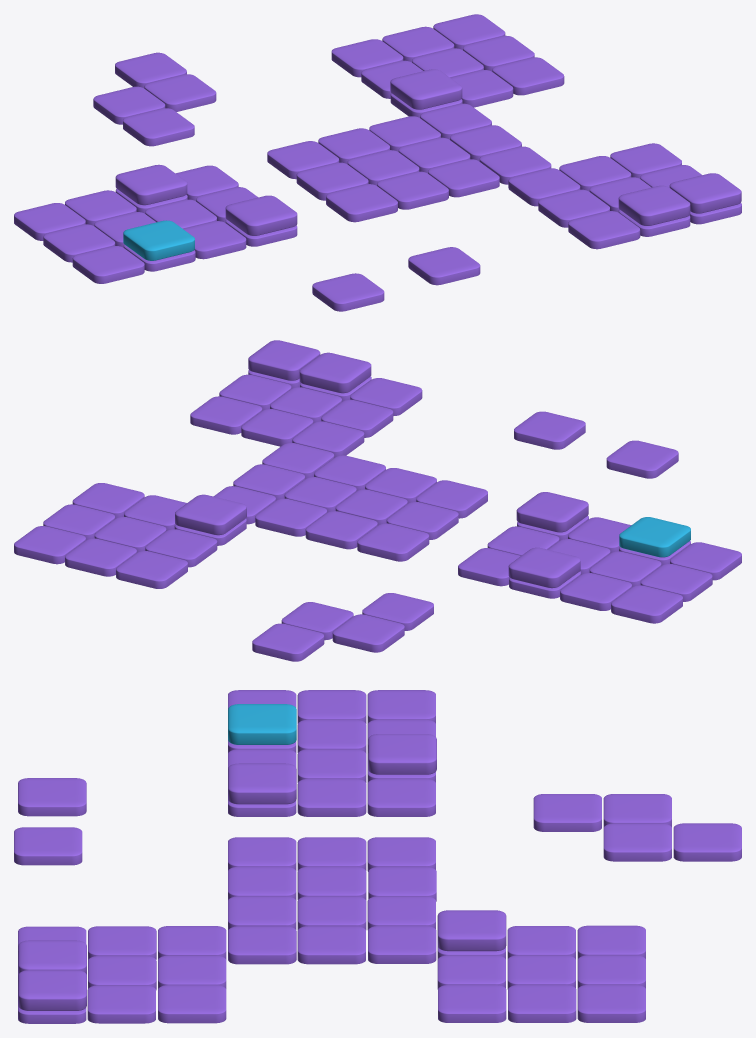
File: Level1.glb
The picture shows the model from 3 angles, top to bottom: view 1: azimuth 30°, elevation 25°; view 2: azimuth 150°, elevation 25°; view 3: azimuth 270°, elevation 25°; orthographic projection. The views are drawn at different scales.
Parts seen in each view (by area): view 1: block.001, block.004, block.002, block.003, block, platform.037, platform.013, platform.022, platform.015, platform.007, platform.040, block.005 (+41 smaller); view 2: block.004, block.001, block.002, block, block.003, platform.004, platform.037, platform.027, platform.009, platform.013, platform.005, platform.014 (+37 smaller); view 3: block.003, block.002, block, block.001, block.005, platform.026, platform.008, platform.013, platform.009, platform.038, platform.030, platform.048 (+38 smaller).
Part boxes in pixels (x1,y1,x2,y2): block.001: (115,164,187,205); block.004: (618,185,690,225); block.002: (225,195,297,235); block.003: (390,69,462,109); block: (123,220,194,260); platform.037: (312,273,384,311); platform.013: (408,247,480,285); platform.022: (72,246,144,283); platform.015: (568,211,640,249); platform.007: (123,108,194,146); platform.040: (326,184,397,222); block.005: (669,173,741,213); block.004: (299,352,371,393); block.001: (508,547,580,588); block.002: (516,492,588,532); block: (619,517,690,557); block.003: (175,494,246,535); platform.004: (332,614,404,652); platform.037: (606,440,678,478); platform.027: (357,523,429,561); platform.009: (252,623,324,661); platform.013: (514,411,585,449); platform.005: (611,585,682,623); platform.014: (116,551,187,588); block.003: (437,910,506,951); block.002: (228,763,296,804); block: (228,704,296,744); block.001: (368,734,436,774); block.005: (18,970,86,1010); platform.026: (297,778,366,816); platform.008: (603,823,671,861); platform.013: (14,827,82,865); platform.009: (673,823,741,861); platform.038: (228,926,296,964); platform.030: (87,985,155,1023); platform.048: (297,926,365,964).
Size of what is drawn, in the model's own units: 27.17 by 1.04 by 25.77.
